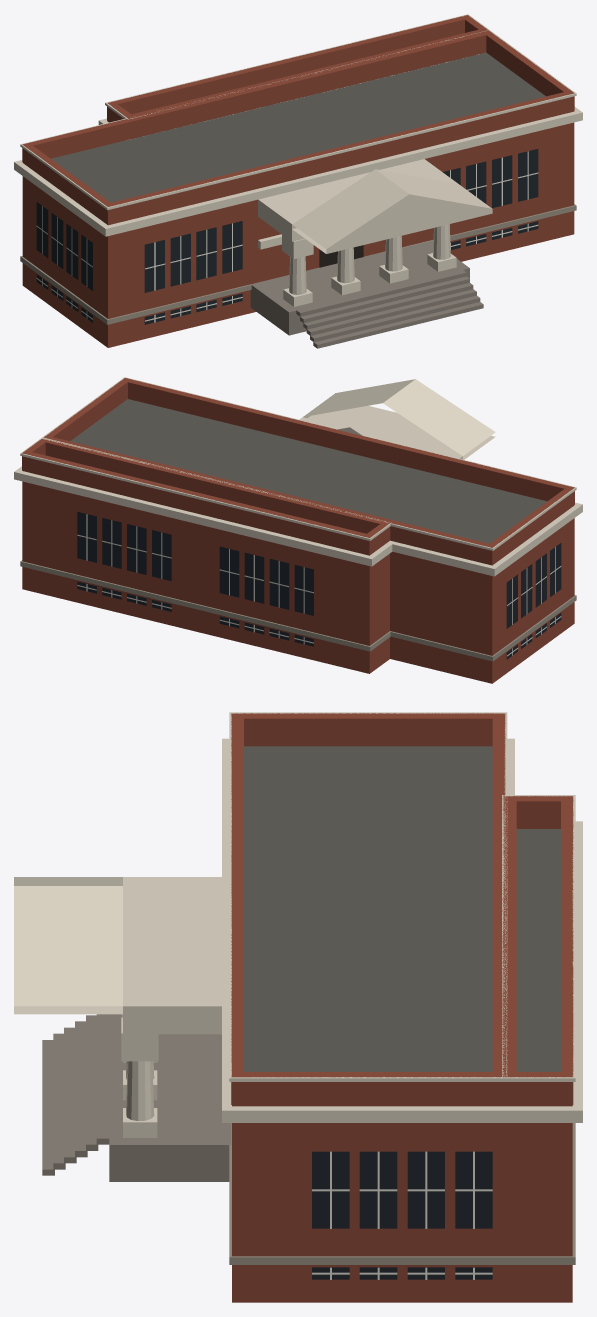
File: philander-smith-college-2.glb
3 views of the same model, one above another, from view 1: azimuth 30°, elevation 25°; view 2: azimuth 150°, elevation 25°; view 3: azimuth 270°, elevation 25° (orthographic). The views are drawn at different scales.
Visible parts, largest first — view 1: kit-philander-smith-college-2; view 2: kit-philander-smith-college-2; view 3: kit-philander-smith-college-2.
Part boxes in pixels (x1=…): kit-philander-smith-college-2: x1=14, y1=14, x2=582, y2=348; kit-philander-smith-college-2: x1=14, y1=377, x2=582, y2=683; kit-philander-smith-college-2: x1=14, y1=712, x2=582, y2=1302.
Bounding box in the file's own units: 25.84 × 7.6 × 16.7.
